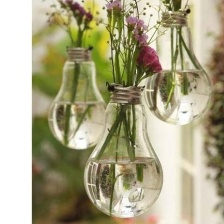light_bulb: (80, 80, 167, 222), (135, 5, 217, 126), (43, 42, 111, 151)
